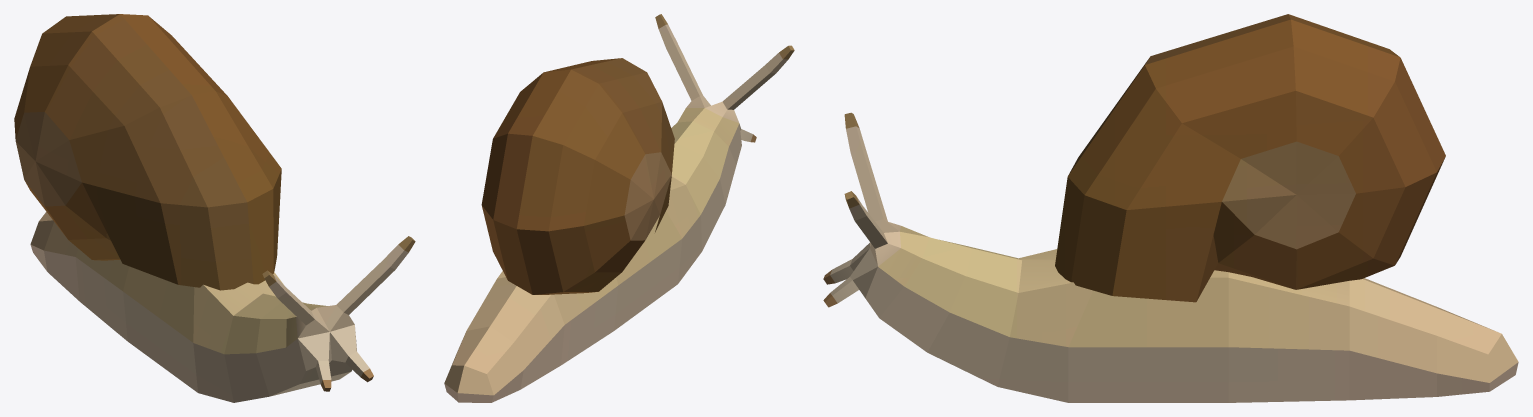
File: animals-snail-185.glb
3 views of the same model, side by side, from view 1: azimuth 30°, elevation 25°; view 2: azimuth 150°, elevation 25°; view 3: azimuth 270°, elevation 25° (orthographic). The views are drawn at different scales.
Visible parts, largest first — view 1: Geo_Snail; view 2: Geo_Snail; view 3: Geo_Snail.
Part boxes in pixels (x1=…): Geo_Snail: x1=14, y1=14, x2=415, y2=402; Geo_Snail: x1=444, y1=14, x2=794, y2=402; Geo_Snail: x1=823, y1=14, x2=1518, y2=402.
Bounding box in the file's own units: 2.51 × 3.86 × 7.04.
Materials: 1 (1 with a texture image).
